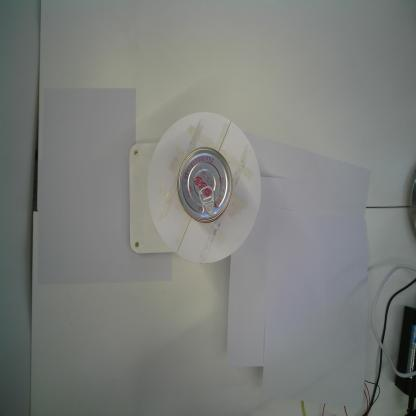Canned Food: (175, 146, 235, 226)
